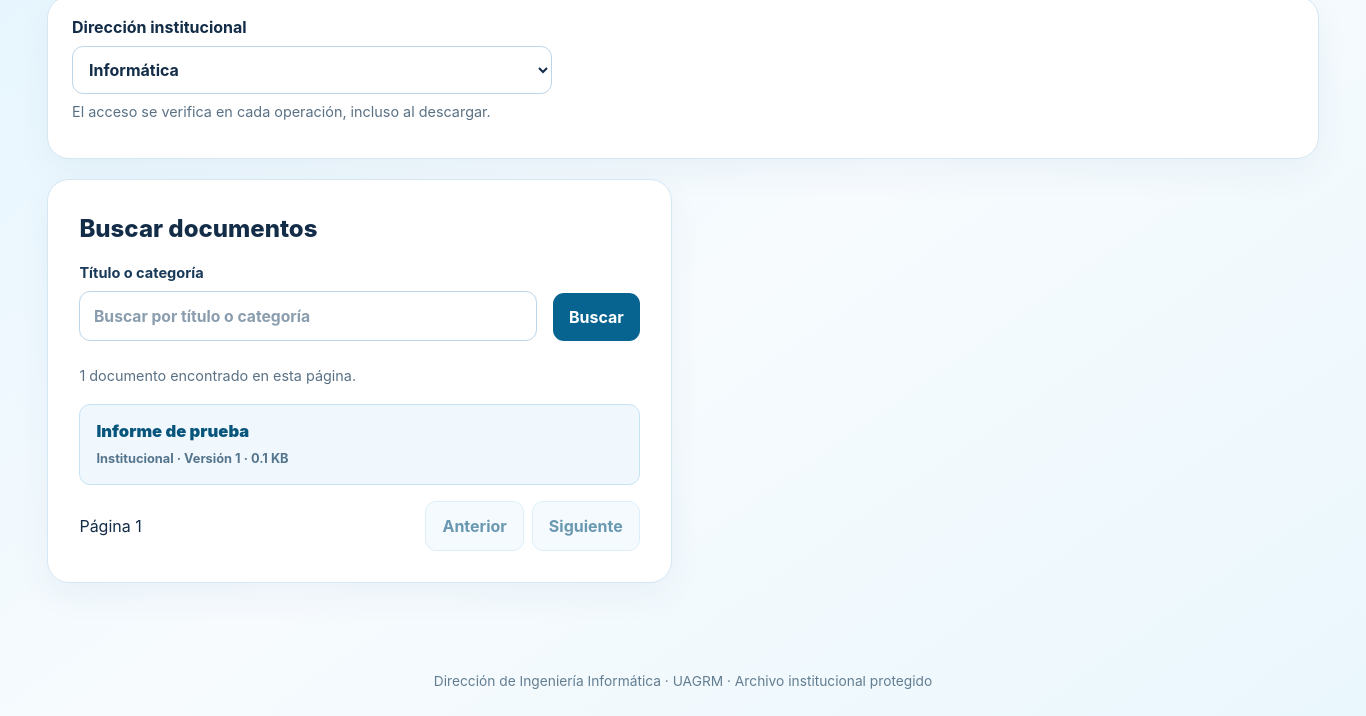
Scenario: Vista previa autorizada de documentos › no crea un blob cuando el servidor deniega la recuperación
This screenshot has width=1366, height=716.
(page scrolled)
Click the button "Informe de prueba Institucional · Versión 1 · 0.1 KB" at [173, 431], box [79, 404, 640, 485]
(page scrolled)
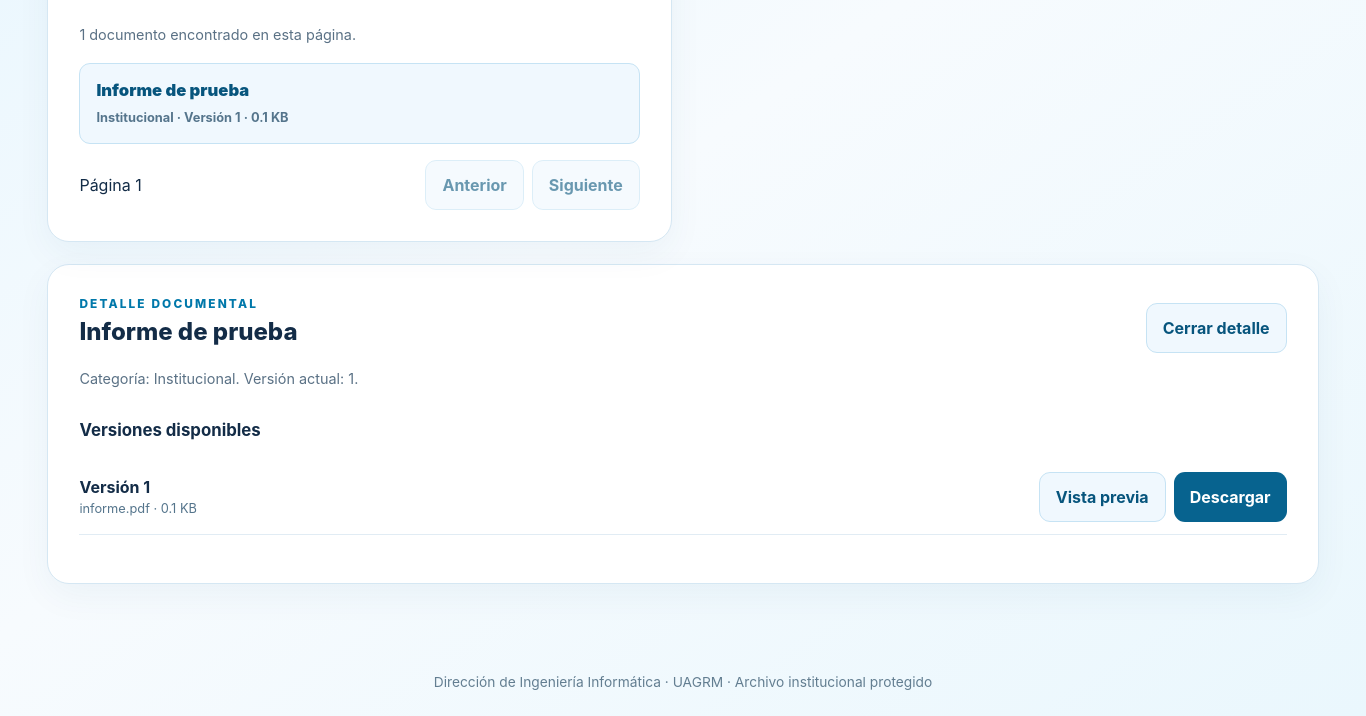
Click the button "Vista previa" at [1102, 497], box [1039, 472, 1166, 522]
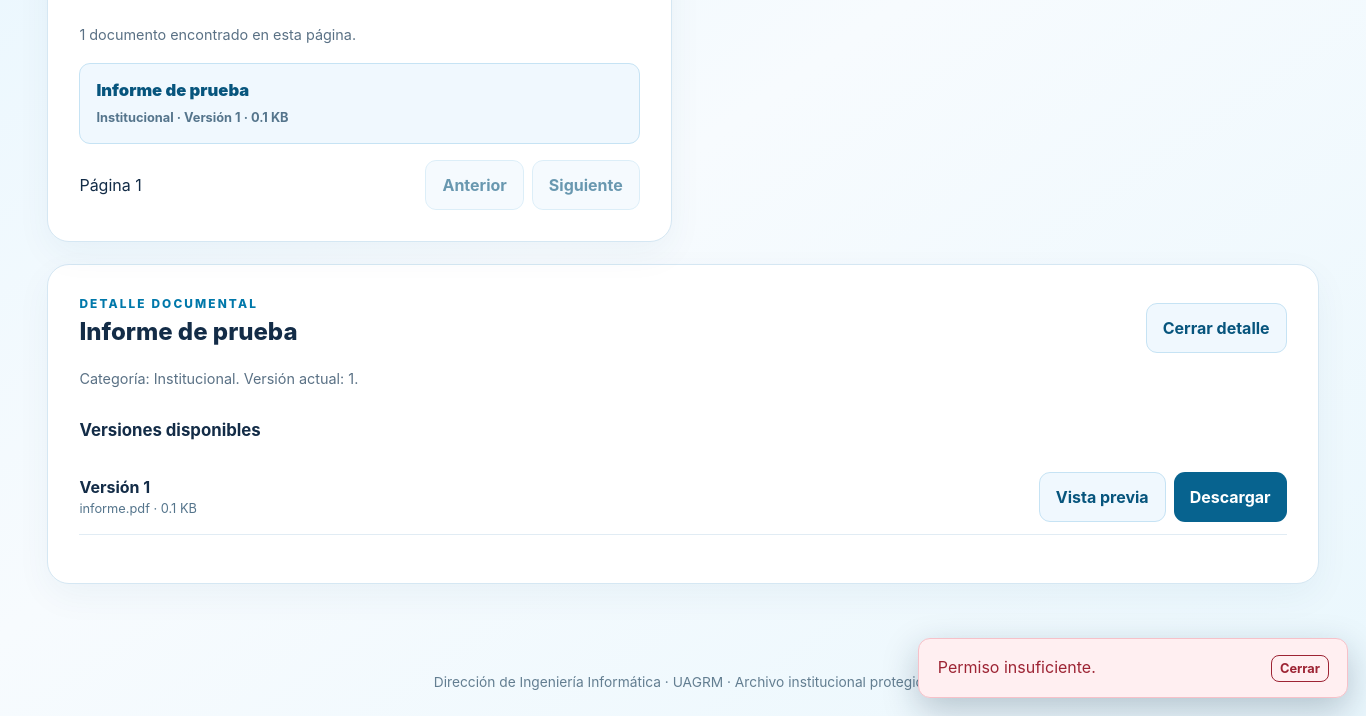
Check: the text "Permiso insuficiente." is shown, box [938, 655, 1096, 679]
